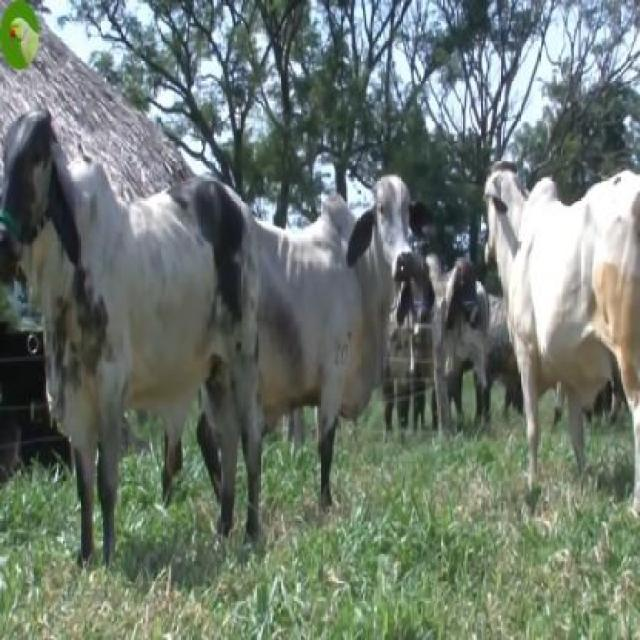Cow: (0, 105, 265, 566), (262, 172, 426, 523), (482, 166, 638, 520)
